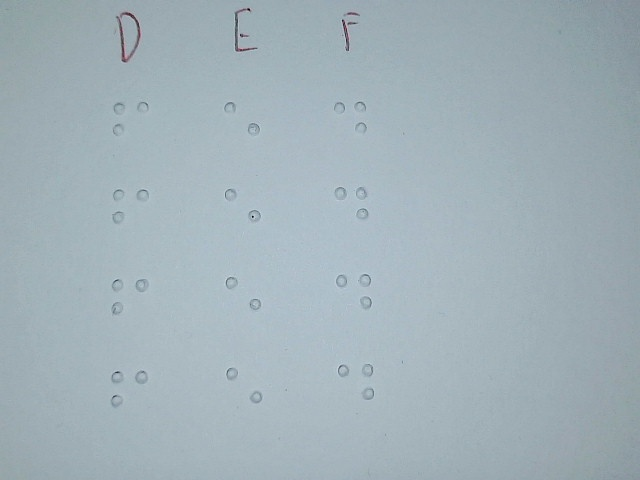D: (330, 88, 371, 159), (331, 172, 372, 243), (333, 261, 374, 332), (336, 351, 377, 422)
E: (221, 87, 263, 160), (222, 174, 264, 247), (223, 261, 265, 334), (224, 353, 266, 426)
F: (110, 88, 152, 161), (110, 173, 152, 246), (109, 265, 151, 338), (108, 356, 150, 429)
